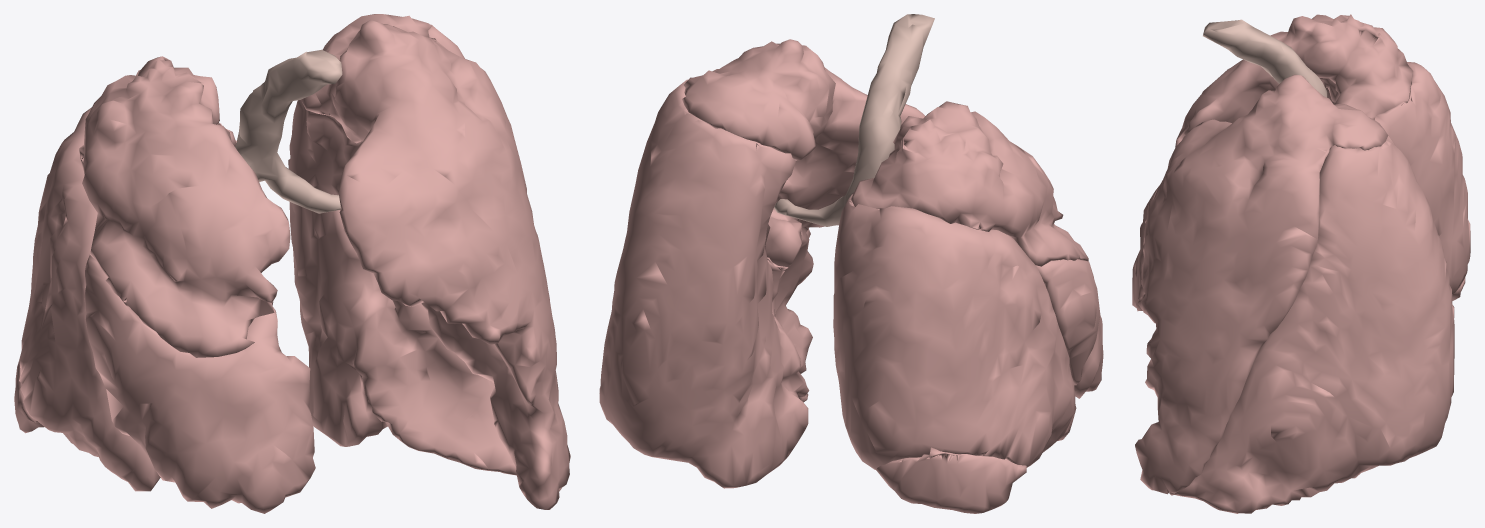
File: tsd_s0327_older_adult_male.respiratory.LOD3.glb
3 renders of one model, left to right at view 1: azimuth 30°, elevation 25°; view 2: azimuth 150°, elevation 25°; view 3: azimuth 270°, elevation 25°, orthographic. The views are drawn at different scales.
Visible parts, largest first — view 1: TSD_S0327.OLDER_ADULT.MALE.RESPIRATORY.SUPERIOR_LOBE_OF_LEFT, TSD_S0327.OLDER_ADULT.MALE.RESPIRATORY.SUPERIOR_LOBE_OF_RIGH, TSD_S0327.OLDER_ADULT.MALE.RESPIRATORY.INFERIOR_LOBE_OF_LEFT, TSD_S0327.OLDER_ADULT.MALE.RESPIRATORY.MIDDLE_LOBE_OF_RIGHT_, TSD_S0327.OLDER_ADULT.MALE.RESPIRATORY.INFERIOR_LOBE_OF_RIGH, TSD_S0327.OLDER_ADULT.MALE.RESPIRATORY.TRACHEA; view 2: TSD_S0327.OLDER_ADULT.MALE.RESPIRATORY.INFERIOR_LOBE_OF_LEFT, TSD_S0327.OLDER_ADULT.MALE.RESPIRATORY.INFERIOR_LOBE_OF_RIGH, TSD_S0327.OLDER_ADULT.MALE.RESPIRATORY.SUPERIOR_LOBE_OF_LEFT, TSD_S0327.OLDER_ADULT.MALE.RESPIRATORY.SUPERIOR_LOBE_OF_RIGH, TSD_S0327.OLDER_ADULT.MALE.RESPIRATORY.MIDDLE_LOBE_OF_RIGHT_, TSD_S0327.OLDER_ADULT.MALE.RESPIRATORY.TRACHEA; view 3: TSD_S0327.OLDER_ADULT.MALE.RESPIRATORY.INFERIOR_LOBE_OF_LEFT, TSD_S0327.OLDER_ADULT.MALE.RESPIRATORY.SUPERIOR_LOBE_OF_LEFT, TSD_S0327.OLDER_ADULT.MALE.RESPIRATORY.SUPERIOR_LOBE_OF_RIGH, TSD_S0327.OLDER_ADULT.MALE.RESPIRATORY.INFERIOR_LOBE_OF_RIGH, TSD_S0327.OLDER_ADULT.MALE.RESPIRATORY.TRACHEA, TSD_S0327.OLDER_ADULT.MALE.RESPIRATORY.MIDDLE_LOBE_OF_RIGHT_.
Part boxes in pixels (x1,y1,x2,y2): TSD_S0327.OLDER_ADULT.MALE.RESPIRATORY.SUPERIOR_LOBE_OF_LEFT: [302, 14, 570, 509]; TSD_S0327.OLDER_ADULT.MALE.RESPIRATORY.SUPERIOR_LOBE_OF_RIGH: [79, 56, 290, 357]; TSD_S0327.OLDER_ADULT.MALE.RESPIRATORY.INFERIOR_LOBE_OF_LEFT: [288, 24, 561, 491]; TSD_S0327.OLDER_ADULT.MALE.RESPIRATORY.MIDDLE_LOBE_OF_RIGHT_: [14, 255, 315, 513]; TSD_S0327.OLDER_ADULT.MALE.RESPIRATORY.INFERIOR_LOBE_OF_RIGH: [19, 107, 281, 491]; TSD_S0327.OLDER_ADULT.MALE.RESPIRATORY.TRACHEA: [235, 49, 342, 213]; TSD_S0327.OLDER_ADULT.MALE.RESPIRATORY.INFERIOR_LOBE_OF_LEFT: [599, 79, 809, 488]; TSD_S0327.OLDER_ADULT.MALE.RESPIRATORY.INFERIOR_LOBE_OF_RIGH: [833, 194, 1076, 469]; TSD_S0327.OLDER_ADULT.MALE.RESPIRATORY.SUPERIOR_LOBE_OF_LEFT: [682, 39, 925, 373]; TSD_S0327.OLDER_ADULT.MALE.RESPIRATORY.SUPERIOR_LOBE_OF_RIGH: [850, 101, 1088, 266]; TSD_S0327.OLDER_ADULT.MALE.RESPIRATORY.MIDDLE_LOBE_OF_RIGHT_: [876, 259, 1103, 513]; TSD_S0327.OLDER_ADULT.MALE.RESPIRATORY.TRACHEA: [774, 14, 934, 226]; TSD_S0327.OLDER_ADULT.MALE.RESPIRATORY.INFERIOR_LOBE_OF_LEFT: [1169, 136, 1454, 513]; TSD_S0327.OLDER_ADULT.MALE.RESPIRATORY.SUPERIOR_LOBE_OF_LEFT: [1135, 74, 1388, 494]; TSD_S0327.OLDER_ADULT.MALE.RESPIRATORY.SUPERIOR_LOBE_OF_RIGH: [1175, 14, 1412, 147]; TSD_S0327.OLDER_ADULT.MALE.RESPIRATORY.INFERIOR_LOBE_OF_RIGH: [1374, 62, 1470, 293]; TSD_S0327.OLDER_ADULT.MALE.RESPIRATORY.TRACHEA: [1203, 19, 1327, 97]; TSD_S0327.OLDER_ADULT.MALE.RESPIRATORY.MIDDLE_LOBE_OF_RIGHT_: [1132, 185, 1465, 311].
Bounding box in the file's own units: 0.2454 × 0.2376 × 0.1854.
